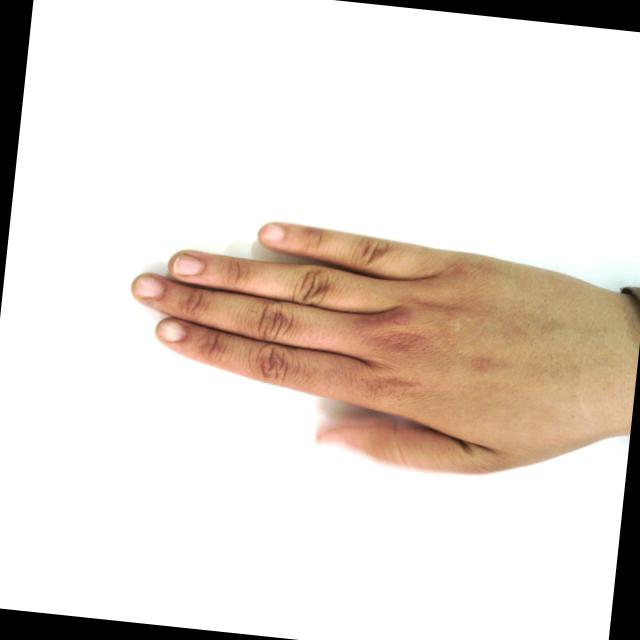Nail: (171, 253, 202, 275), (155, 318, 183, 342), (134, 277, 161, 297), (317, 430, 346, 446), (260, 223, 283, 241)
